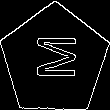M_W: (30, 37, 80, 84)
